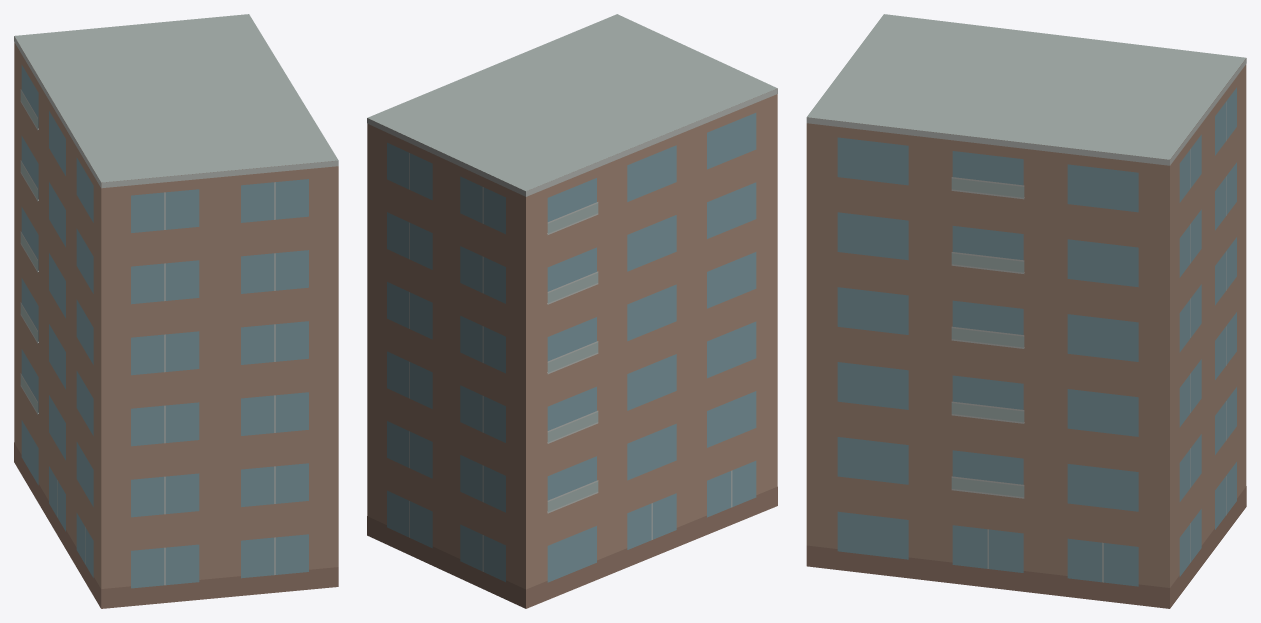
The model's file is survey-upis-32878598.glb.
3 renders of one model, left to right at view 1: azimuth 30°, elevation 25°; view 2: azimuth 150°, elevation 25°; view 3: azimuth 270°, elevation 25°, orthographic. The views are drawn at different scales.
Visible parts, largest first — view 1: survey-upis-32878598.tmp; view 2: survey-upis-32878598.tmp; view 3: survey-upis-32878598.tmp.
Boxes of the visible parts, bbox=[...] form: survey-upis-32878598.tmp: bbox=[14, 14, 338, 608]; survey-upis-32878598.tmp: bbox=[367, 14, 777, 608]; survey-upis-32878598.tmp: bbox=[806, 14, 1246, 608].
Bounding box in the file's own units: 12.68 × 18.2 × 16.17.
